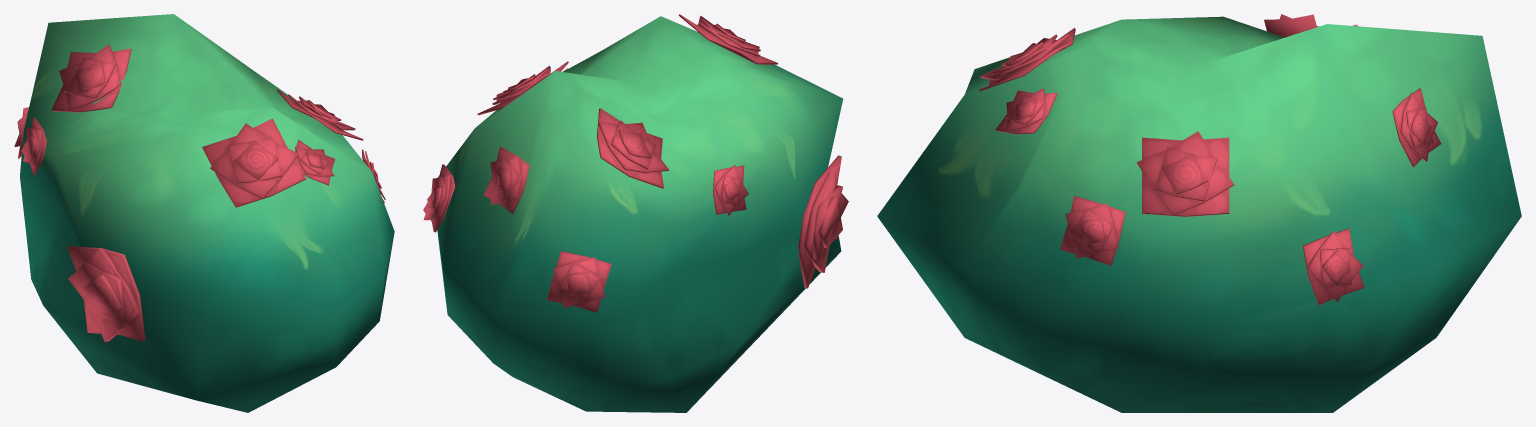
Rendered from rosebush.fbx.
The picture shows the model from 3 angles, left to right: view 1: azimuth 30°, elevation 25°; view 2: azimuth 150°, elevation 25°; view 3: azimuth 270°, elevation 25°; orthographic projection. The views are drawn at different scales.
Visible parts, largest first — view 1: Icosphere, Plane; view 2: Icosphere, Plane; view 3: Icosphere, Plane.
Boxes of the visible parts, left/top/right/bottom form: Icosphere: left=20, top=14, right=394, bottom=412; Plane: left=14, top=44, right=385, bottom=342; Icosphere: left=437, top=16, right=843, bottom=412; Plane: left=423, top=14, right=848, bottom=312; Icosphere: left=877, top=16, right=1521, bottom=412; Plane: left=979, top=14, right=1441, bottom=304.
Bounding box in the file's own units: 136 × 130 × 192.
